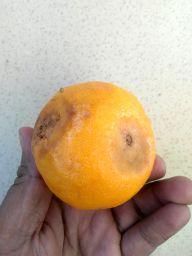Unripe: (34, 81, 155, 209)
